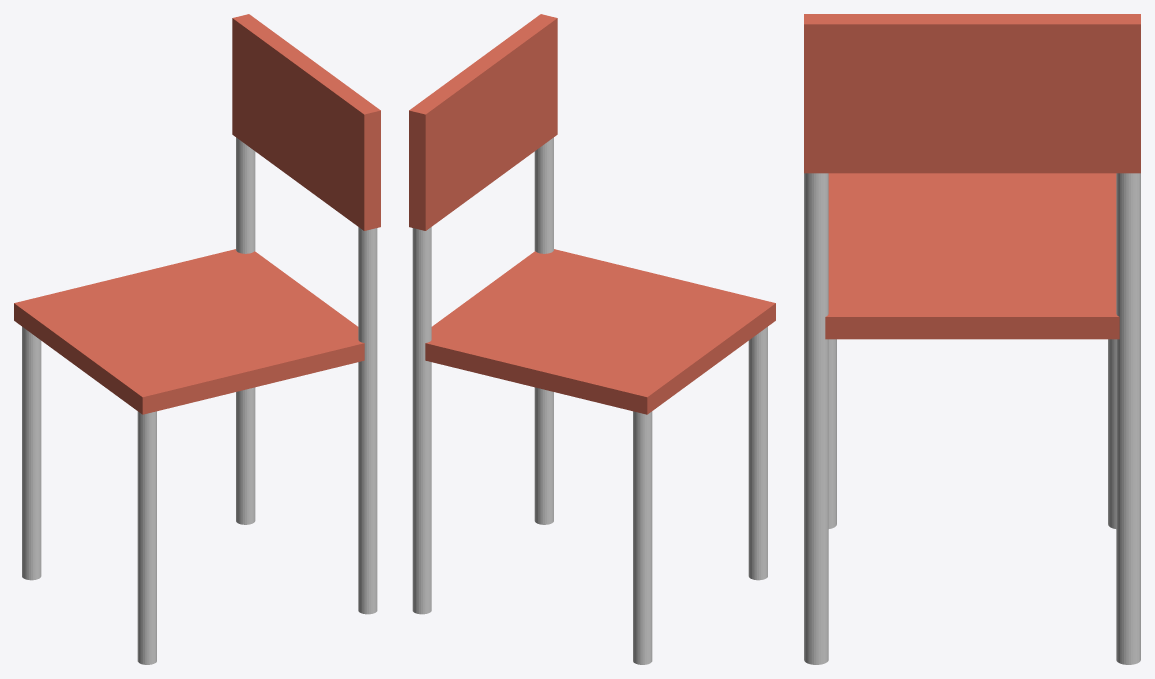
File: Chair.glb
The picture shows the model from 3 angles, left to right: view 1: azimuth 30°, elevation 25°; view 2: azimuth 150°, elevation 25°; view 3: azimuth 270°, elevation 25°; orthographic projection. The views are drawn at different scales.
Parts seen in each view (by area): view 1: Cube.016, Cube.015, Cube.013, Cube.012, Cube.011, Cube.014; view 2: Cube.016, Cube.015, Cube.014, Cube.011, Cube.012, Cube.013; view 3: Cube.015, Cube.016, Cube.013, Cube.014, Cube.011, Cube.012.
Boxes of the visible parts, left/top/right/bottom form: Cube.016: left=14, top=249, right=364, bottom=414; Cube.015: left=232, top=14, right=380, bottom=230; Cube.013: left=358, top=227, right=377, bottom=614; Cube.012: left=137, top=411, right=156, bottom=664; Cube.011: left=22, top=327, right=41, bottom=580; Cube.014: left=236, top=137, right=255, bottom=524; Cube.016: left=425, top=249, right=775, bottom=414; Cube.015: left=409, top=14, right=557, bottom=230; Cube.014: left=412, top=227, right=431, bottom=614; Cube.011: left=633, top=411, right=652, bottom=664; Cube.012: left=748, top=327, right=767, bottom=580; Cube.013: left=534, top=137, right=553, bottom=524; Cube.015: left=804, top=14, right=1140, bottom=173; Cube.016: left=825, top=173, right=1119, bottom=339; Cube.013: left=804, top=173, right=828, bottom=664; Cube.014: left=1116, top=173, right=1140, bottom=664; Cube.011: left=1108, top=339, right=1116, bottom=528; Cube.012: left=828, top=339, right=836, bottom=528.
Bounding box in the file's own units: 0.425 × 0.86 × 0.41.
